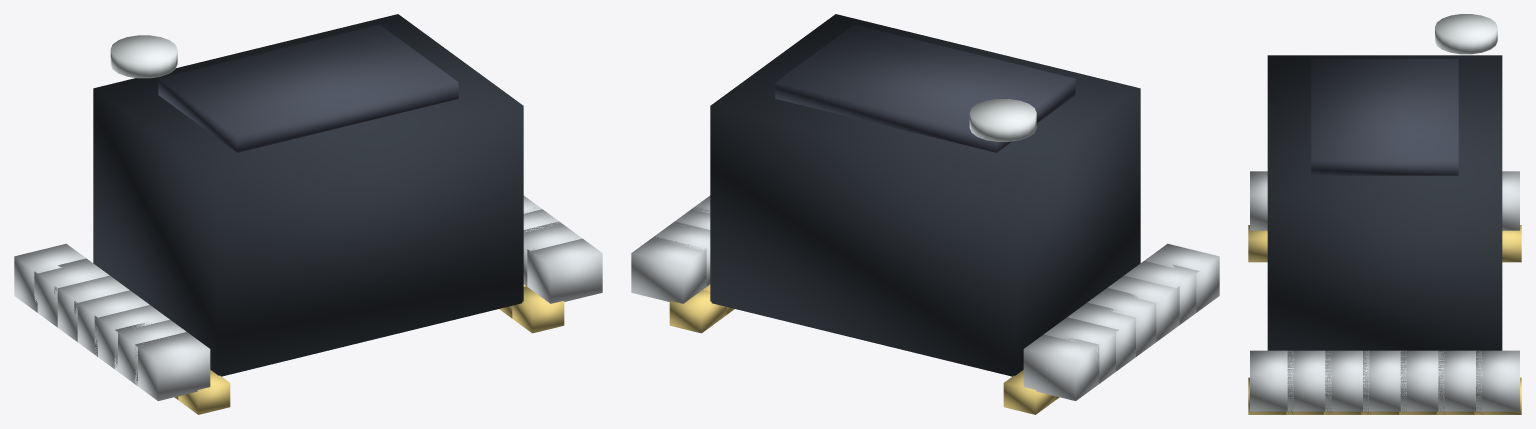
Rendered from 19_L95_U2_74HC14_Schmitt_SOIC14.fbx.
3 renders of one model, left to right at view 1: azimuth 30°, elevation 25°; view 2: azimuth 150°, elevation 25°; view 3: azimuth 270°, elevation 25°, orthographic. The views are drawn at different scales.
Visible parts, largest first — view 1: L95_74HC14_Schmitt_SOIC14_Part_0000, L95_74HC14_Schmitt_SOIC14_Part_0001, L95_74HC14_Schmitt_SOIC14_Part_0002, L95_74HC14_Schmitt_SOIC14_Part_0003, L95_74HC14_Schmitt_SOIC14_Part_0004; view 2: L95_74HC14_Schmitt_SOIC14_Part_0000, L95_74HC14_Schmitt_SOIC14_Part_0002, L95_74HC14_Schmitt_SOIC14_Part_0001, L95_74HC14_Schmitt_SOIC14_Part_0003, L95_74HC14_Schmitt_SOIC14_Part_0004; view 3: L95_74HC14_Schmitt_SOIC14_Part_0000, L95_74HC14_Schmitt_SOIC14_Part_0002, L95_74HC14_Schmitt_SOIC14_Part_0001, L95_74HC14_Schmitt_SOIC14_Part_0003, L95_74HC14_Schmitt_SOIC14_Part_0004.
Part boxes in pixels (x1=…): L95_74HC14_Schmitt_SOIC14_Part_0000: x1=93, y1=14, x2=523, y2=376; L95_74HC14_Schmitt_SOIC14_Part_0001: x1=158, y1=24, x2=458, y2=152; L95_74HC14_Schmitt_SOIC14_Part_0002: x1=14, y1=195, x2=602, y2=400; L95_74HC14_Schmitt_SOIC14_Part_0003: x1=174, y1=284, x2=564, y2=414; L95_74HC14_Schmitt_SOIC14_Part_0004: x1=110, y1=35, x2=177, y2=78; L95_74HC14_Schmitt_SOIC14_Part_0000: x1=710, y1=14, x2=1140, y2=376; L95_74HC14_Schmitt_SOIC14_Part_0002: x1=631, y1=195, x2=1219, y2=400; L95_74HC14_Schmitt_SOIC14_Part_0001: x1=775, y1=24, x2=1075, y2=152; L95_74HC14_Schmitt_SOIC14_Part_0003: x1=669, y1=284, x2=1059, y2=414; L95_74HC14_Schmitt_SOIC14_Part_0004: x1=969, y1=99, x2=1036, y2=141; L95_74HC14_Schmitt_SOIC14_Part_0000: x1=1267, y1=55, x2=1502, y2=350; L95_74HC14_Schmitt_SOIC14_Part_0002: x1=1250, y1=171, x2=1519, y2=411; L95_74HC14_Schmitt_SOIC14_Part_0001: x1=1311, y1=59, x2=1458, y2=175; L95_74HC14_Schmitt_SOIC14_Part_0003: x1=1248, y1=225, x2=1521, y2=414; L95_74HC14_Schmitt_SOIC14_Part_0004: x1=1435, y1=14, x2=1497, y2=54.
Bounding box in the file's own units: 0.1534 × 0.0875 × 0.087.
